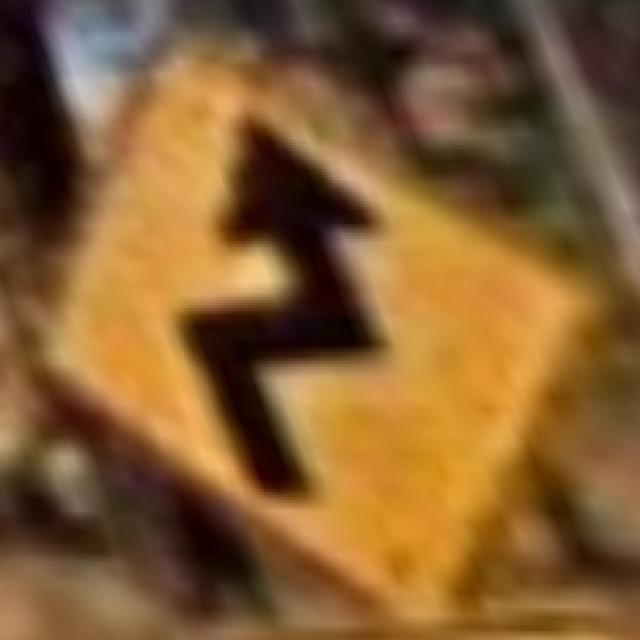Tikungan Ganda Pertama Ke Kanan: (32, 32, 589, 620)
